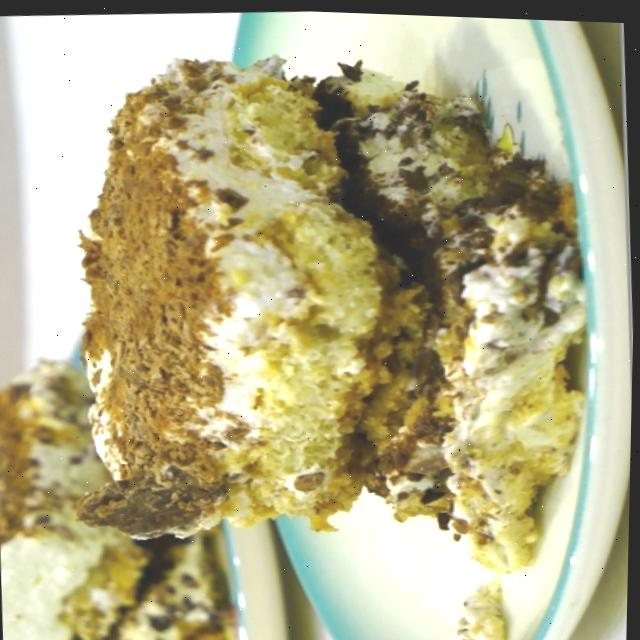蛋糕甜品: (0, 0, 624, 640)
